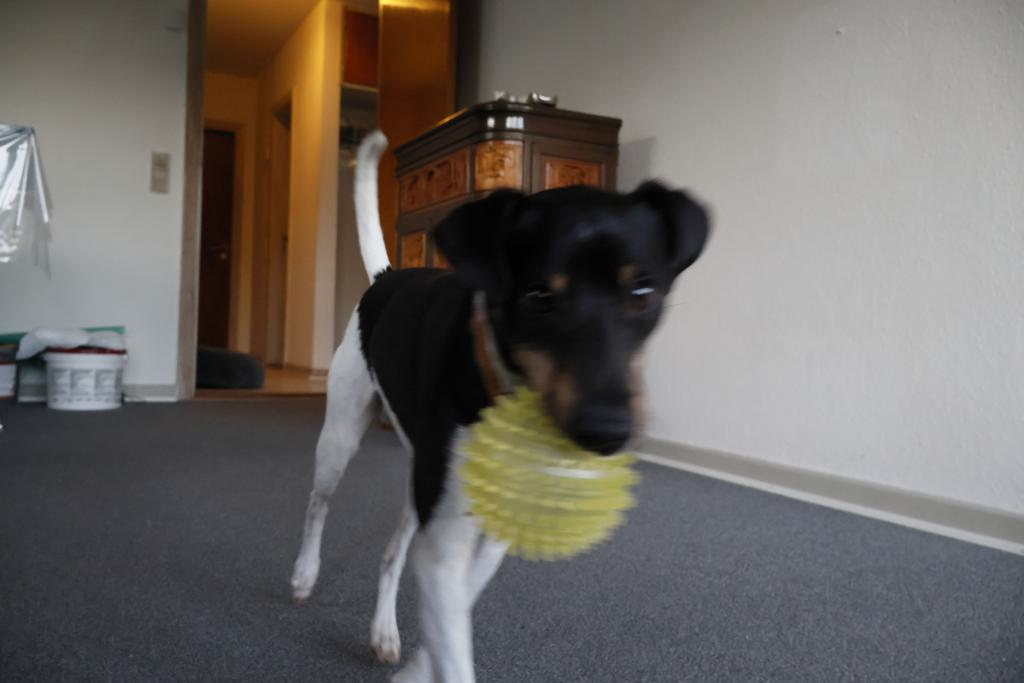Dog: (285, 125, 725, 683)
